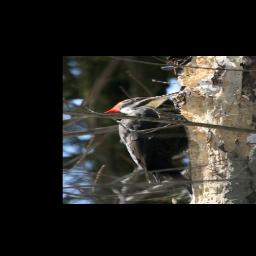Woodpecker: (103, 91, 191, 198)
